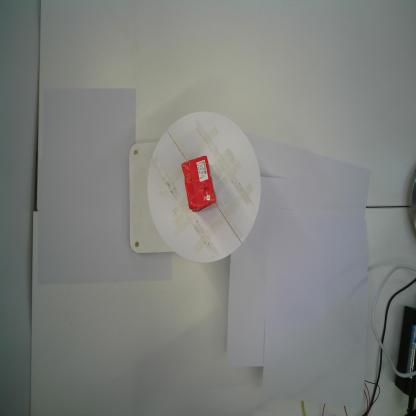Milk: (180, 151, 221, 217)
